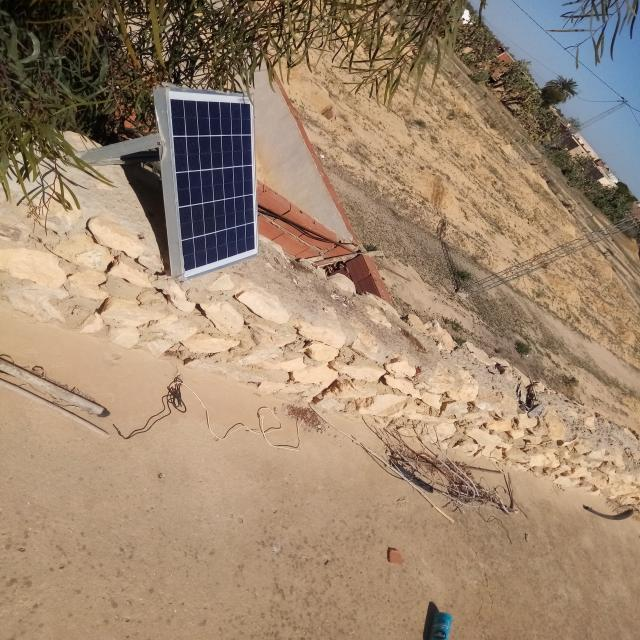no faulty: (167, 89, 258, 280)
